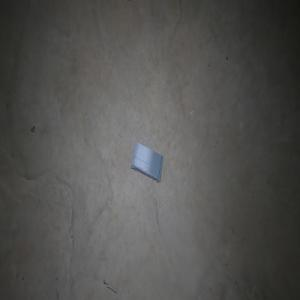PlasticPart: (130, 141, 163, 183)
